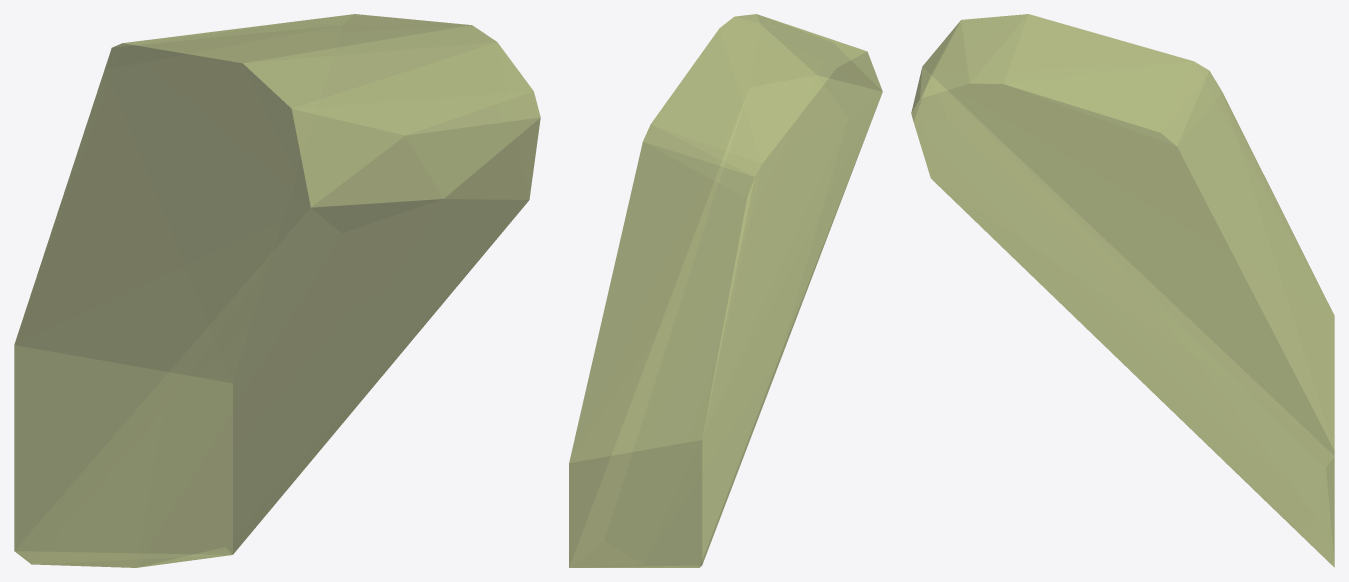
3 views of the same model, side by side, from view 1: azimuth 30°, elevation 25°; view 2: azimuth 150°, elevation 25°; view 3: azimuth 270°, elevation 25° (orthographic). The views are drawn at different scales.
Parts seen in each view (by area): view 1: Shape_IndexedFaceSet.002_Shape_IndexedFaceSet.17978; view 2: Shape_IndexedFaceSet.002_Shape_IndexedFaceSet.17978; view 3: Shape_IndexedFaceSet.002_Shape_IndexedFaceSet.17978.
Boxes of the visible parts, left/top/right/bottom form: Shape_IndexedFaceSet.002_Shape_IndexedFaceSet.17978: left=14, top=14, right=540, bottom=567; Shape_IndexedFaceSet.002_Shape_IndexedFaceSet.17978: left=569, top=14, right=882, bottom=567; Shape_IndexedFaceSet.002_Shape_IndexedFaceSet.17978: left=911, top=14, right=1334, bottom=567.
Bounding box in the file's own units: 0.1519 × 0.4714 × 0.3744.
